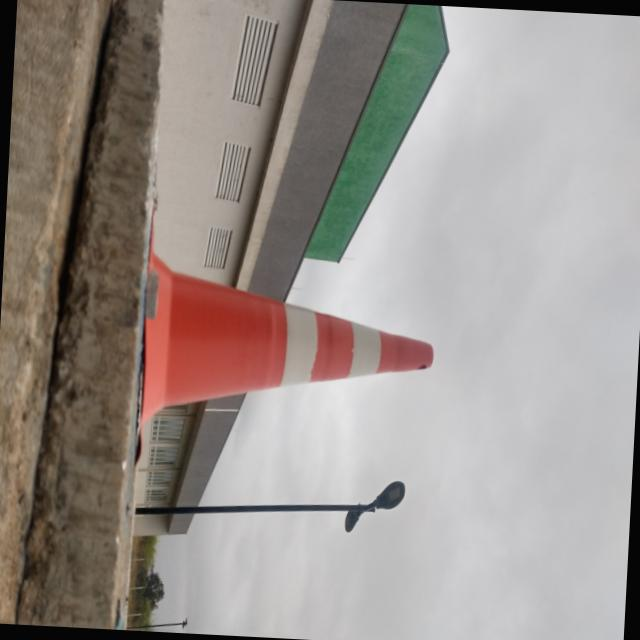cone: (132, 255, 442, 438)
